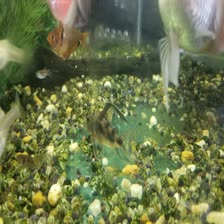Kiros: (79, 104, 135, 154)
Transparente: (42, 25, 90, 53)
